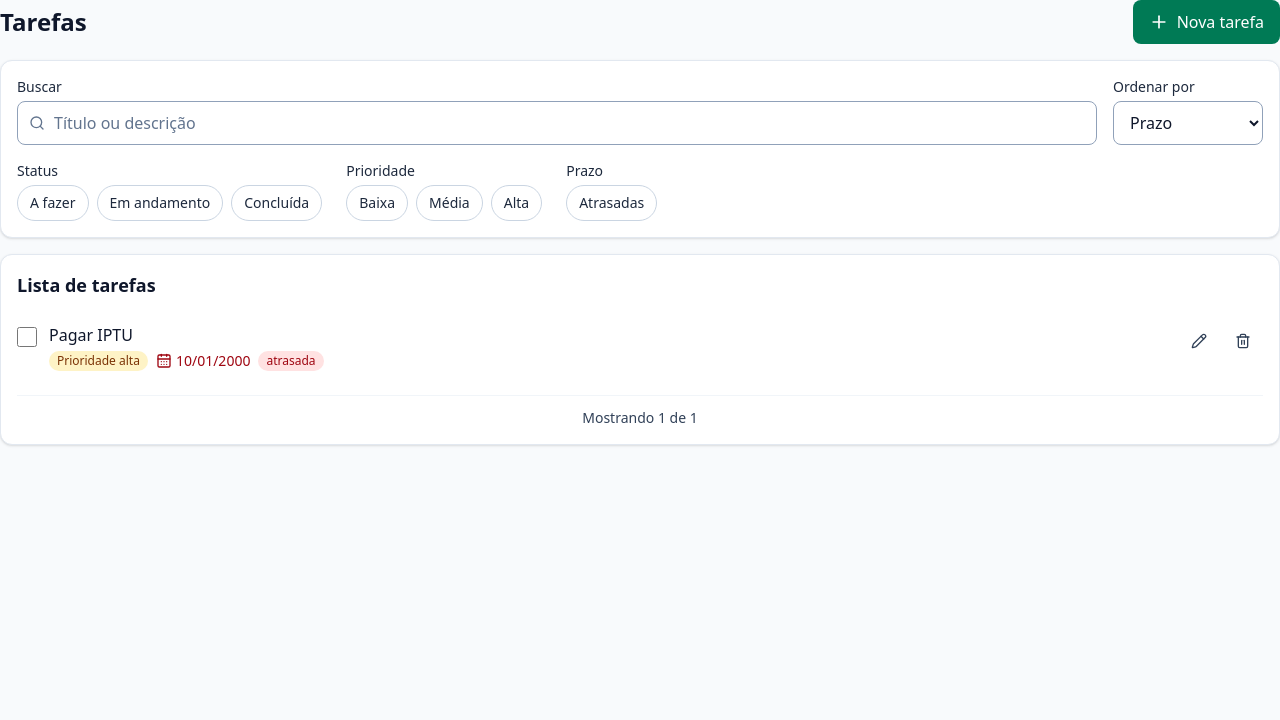
TasksPage › shows a 422 under the title field and a rule error at the top of the form
Click the button "Nova tarefa" at (1206, 22), box [1133,0,1279,44]
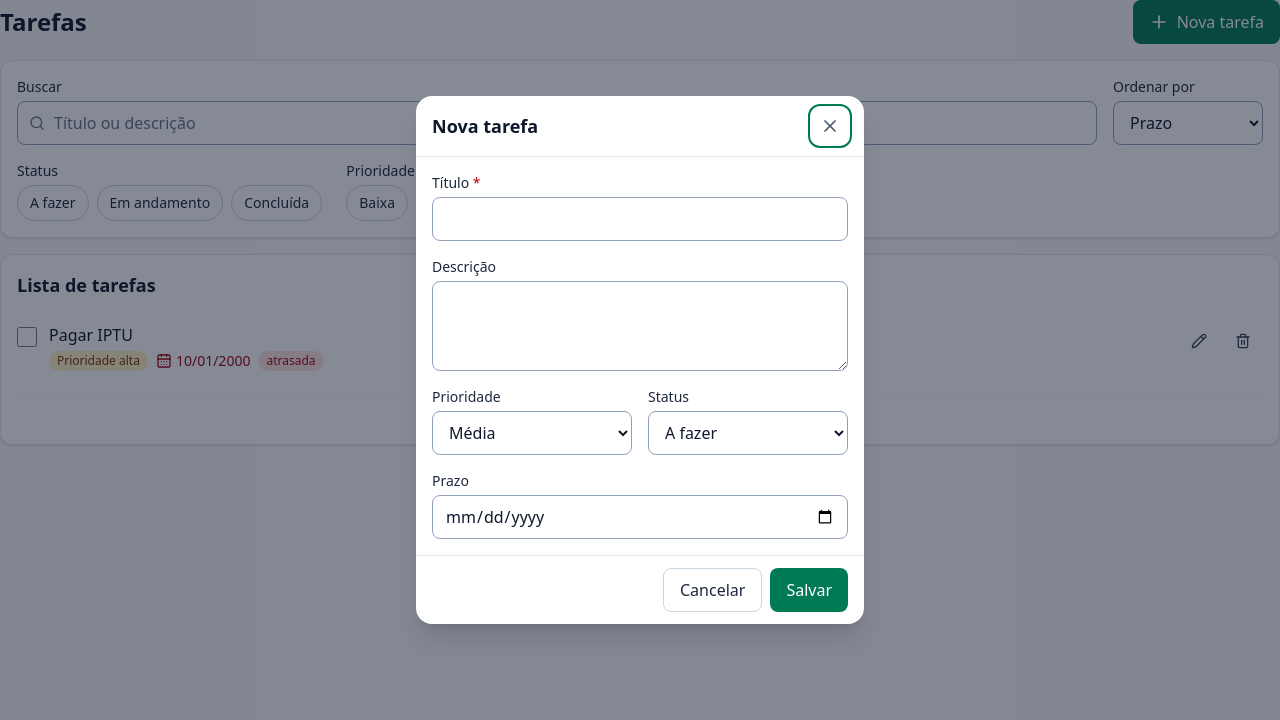
Type "Comprar lâmpadas" into the field labelled "Título *" at (640, 219), box [432,197,848,241]
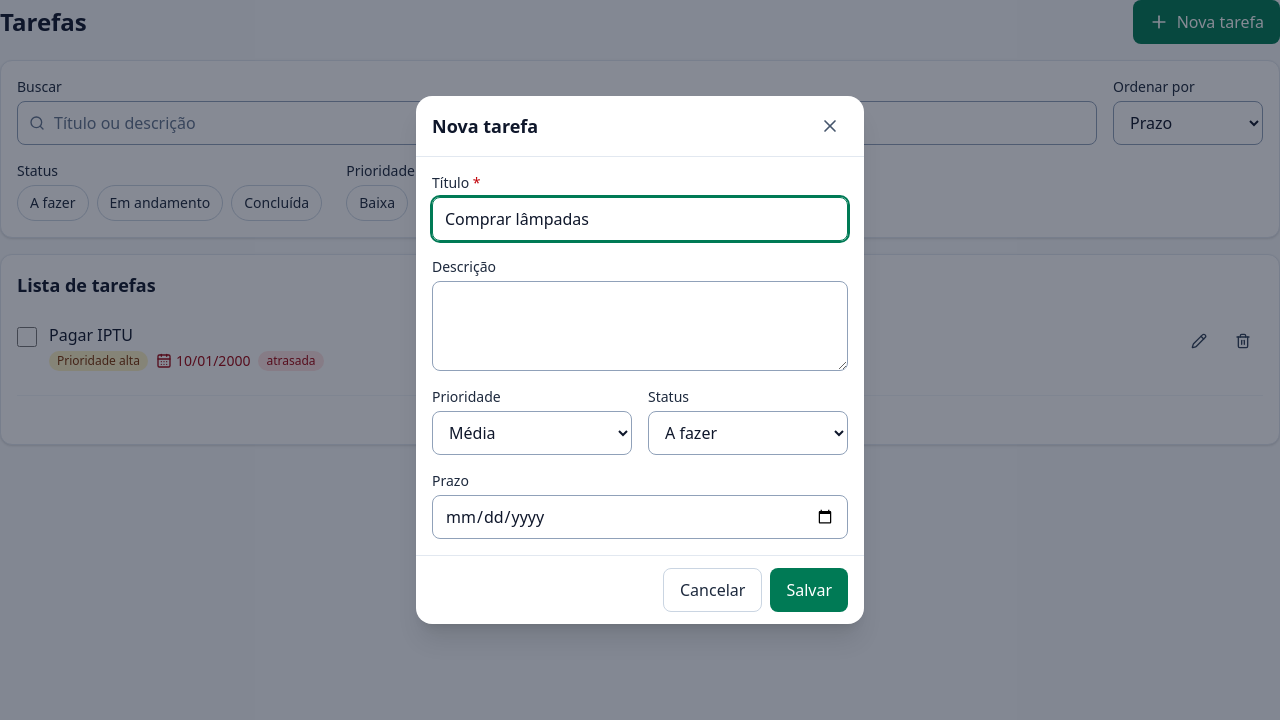
Click the button "Salvar" at (809, 590), box [770,568,848,612]
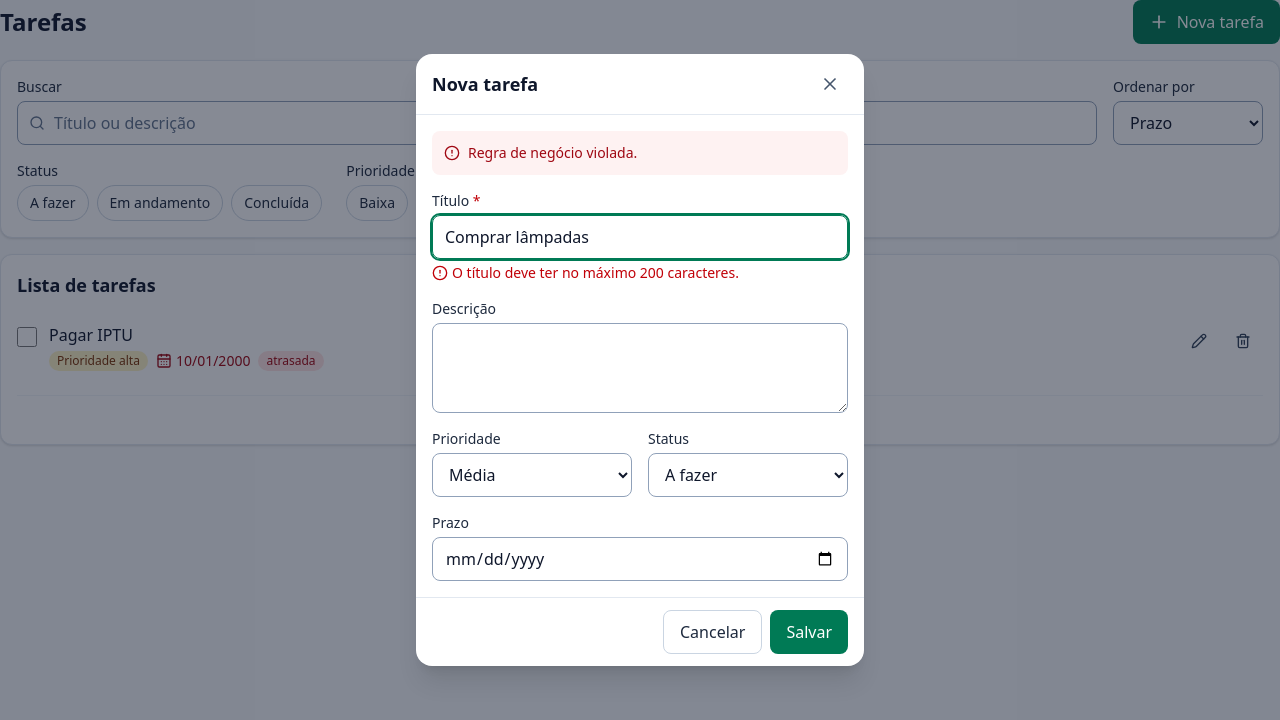
Now the text "O título deve ter no máximo 200 caracteres." is shown, box [432,263,739,282]
Now the message reads "Regra de negócio violada.", box [468,143,637,162]
